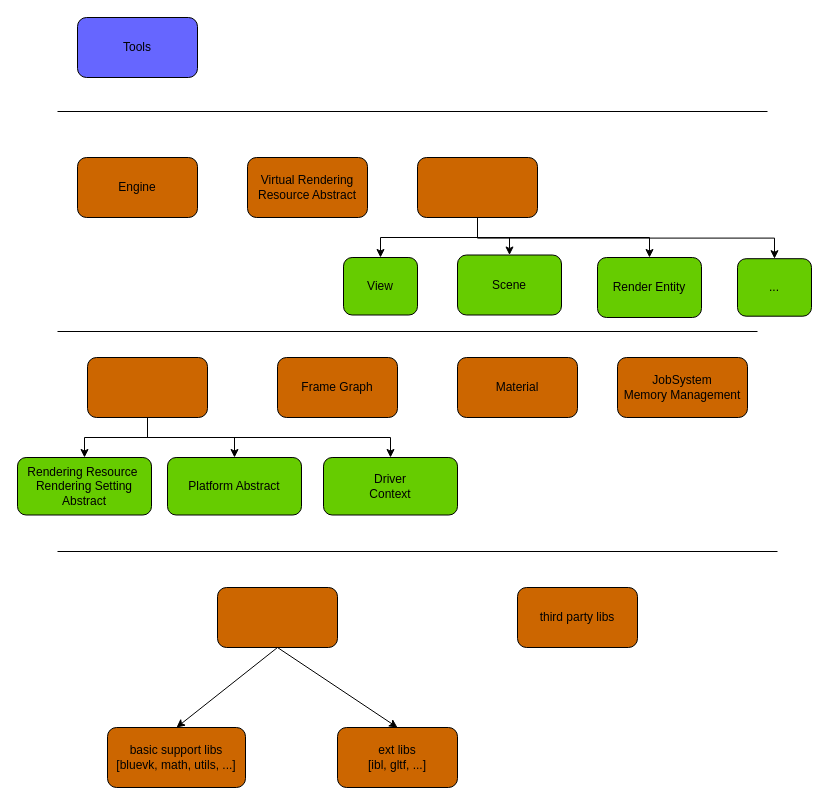
The diagram is 829 pixels wide and 805 high, and some of its shapes have lost their labels. Each missing label, with the box of its shape:
backend/RHI: (86, 356, 208, 418)
libs: (216, 586, 338, 648)
Scene Level Abstract: (416, 156, 538, 218)
